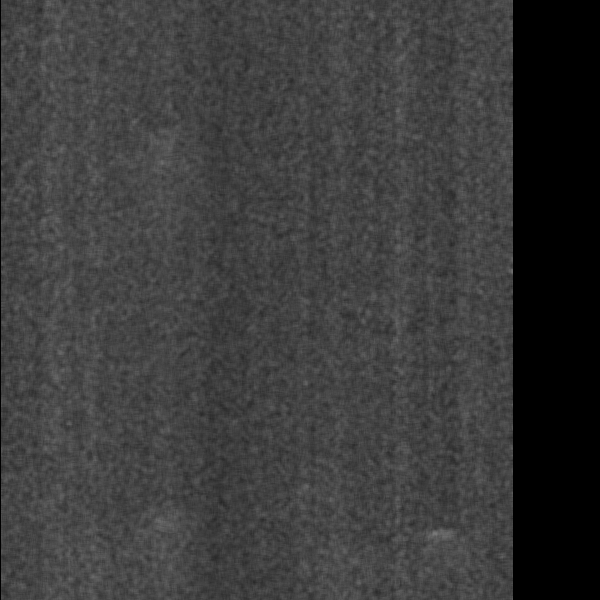spark: (78, 469, 166, 556), (286, 47, 329, 85), (174, 562, 214, 587), (1, 544, 31, 575), (1, 94, 30, 122)
